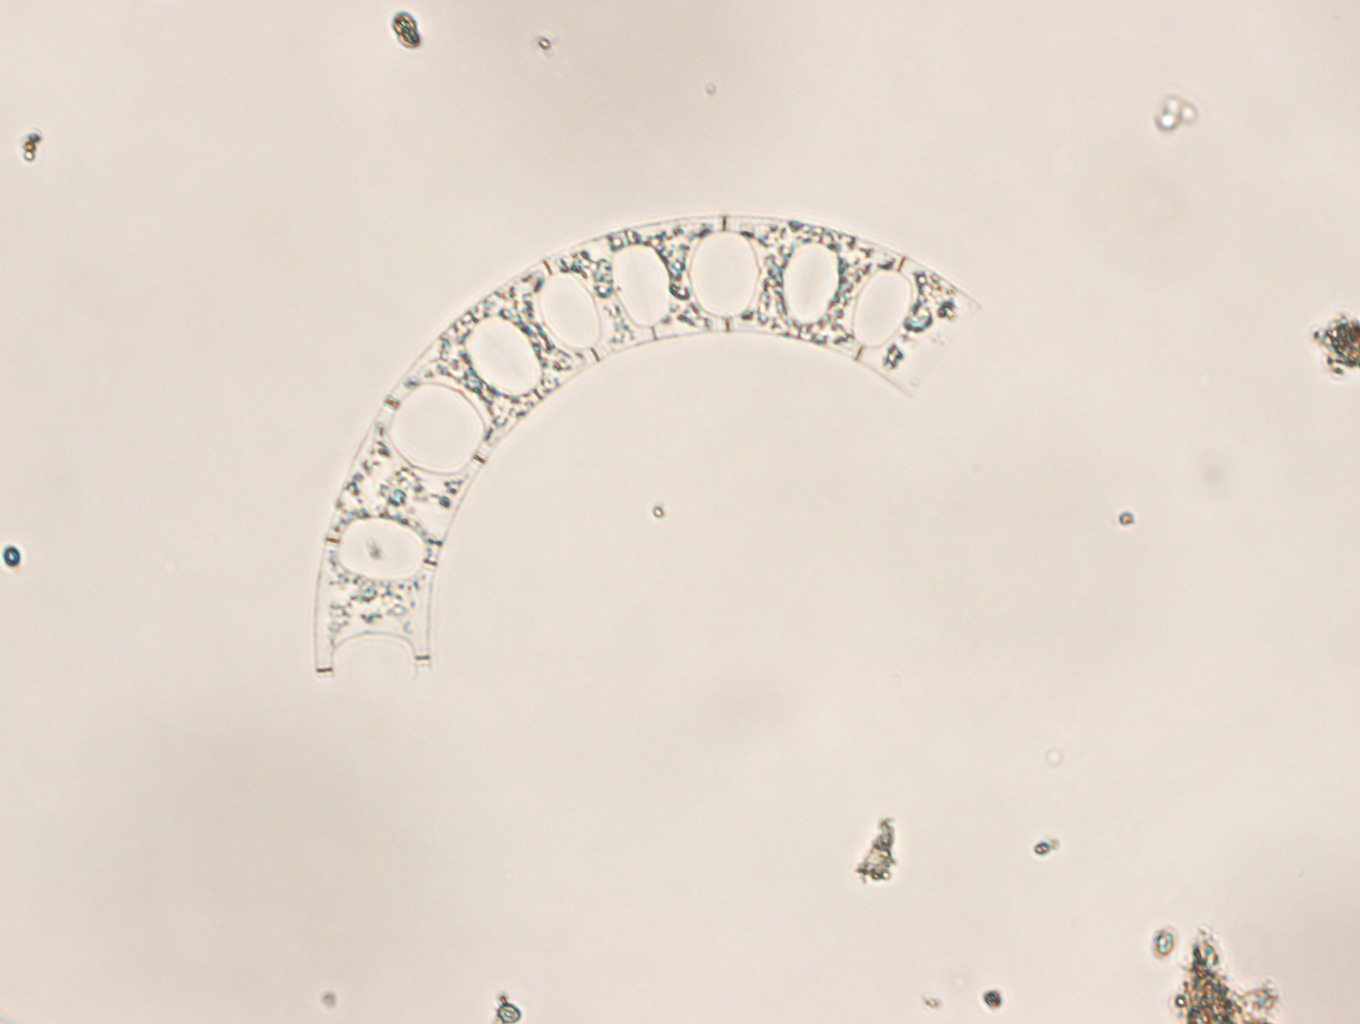eucampia: (311, 213, 976, 677)
